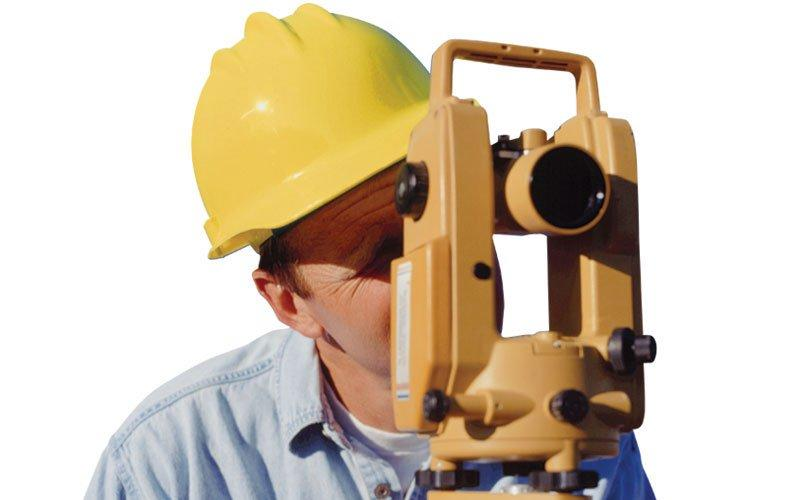helmet: (189, 4, 450, 263)
